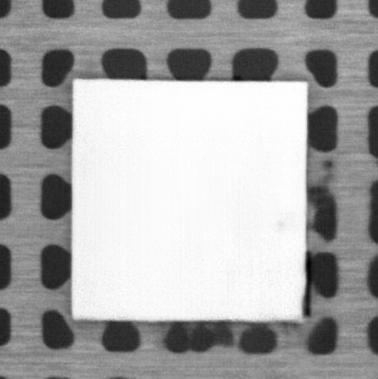DIE_BROKEN: (301, 250, 313, 319)
